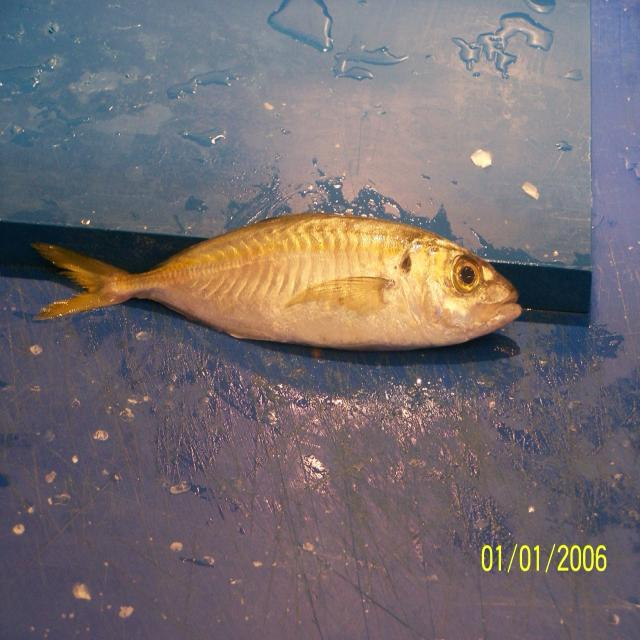Hourse-Mackerel-istavrit-: (28, 214, 524, 353)
